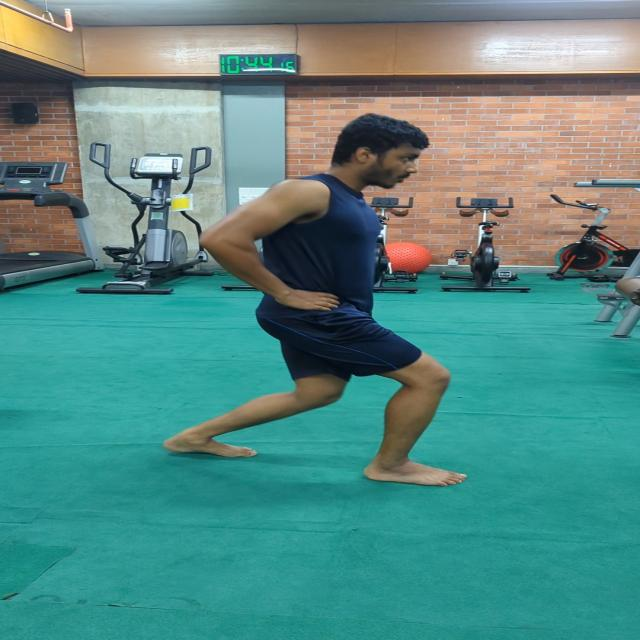Normal_Lunges: (148, 110, 480, 492)
